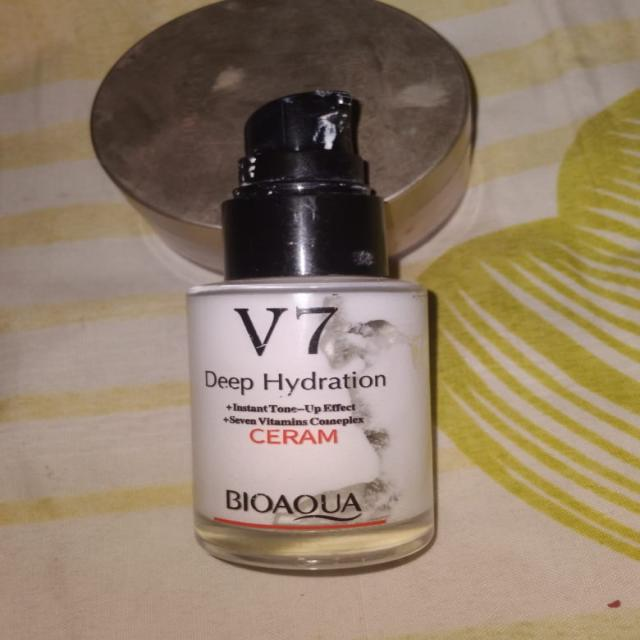lotion: (173, 60, 474, 600)
